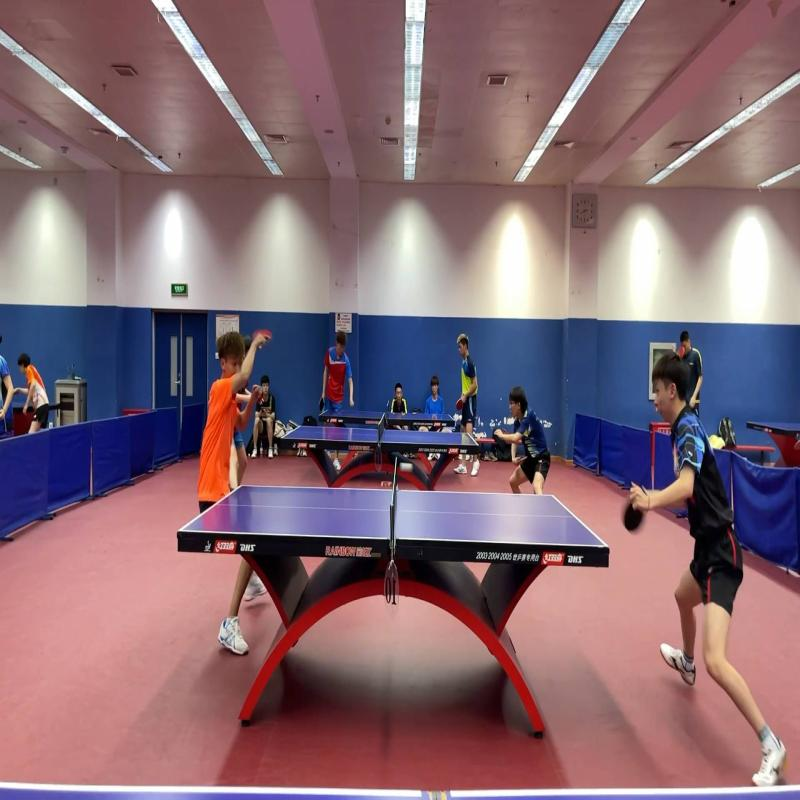bats: (250, 322, 288, 372)
